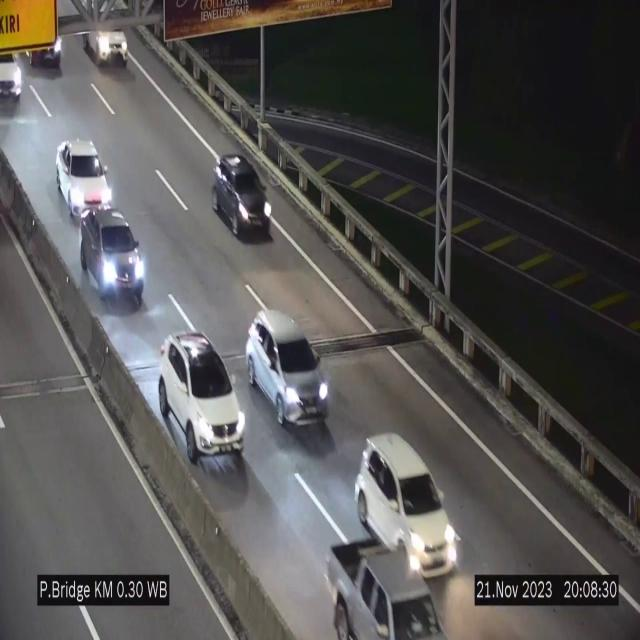Car: (313, 535, 453, 640), (357, 434, 458, 578), (158, 334, 246, 468), (246, 311, 329, 429), (76, 204, 150, 304), (213, 154, 271, 238), (56, 138, 114, 218), (82, 22, 138, 74), (27, 26, 69, 70), (0, 50, 29, 101)
